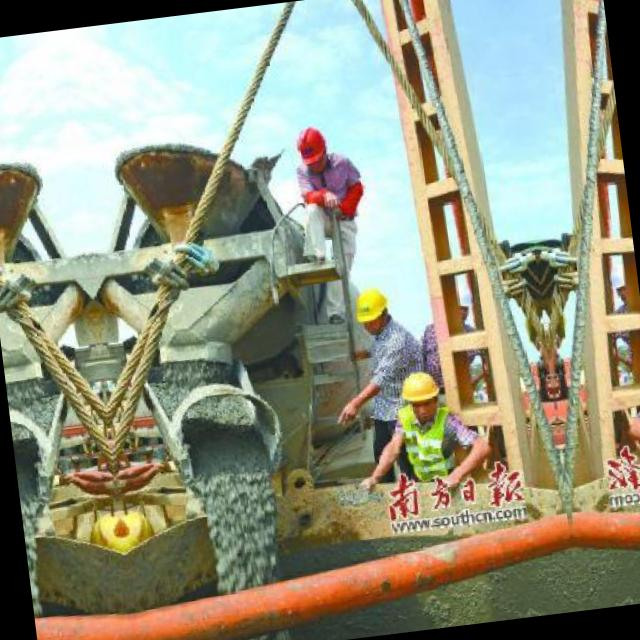helmet: (394, 364, 443, 422), (288, 120, 332, 178), (348, 282, 392, 337), (436, 277, 476, 330), (604, 257, 640, 311)
